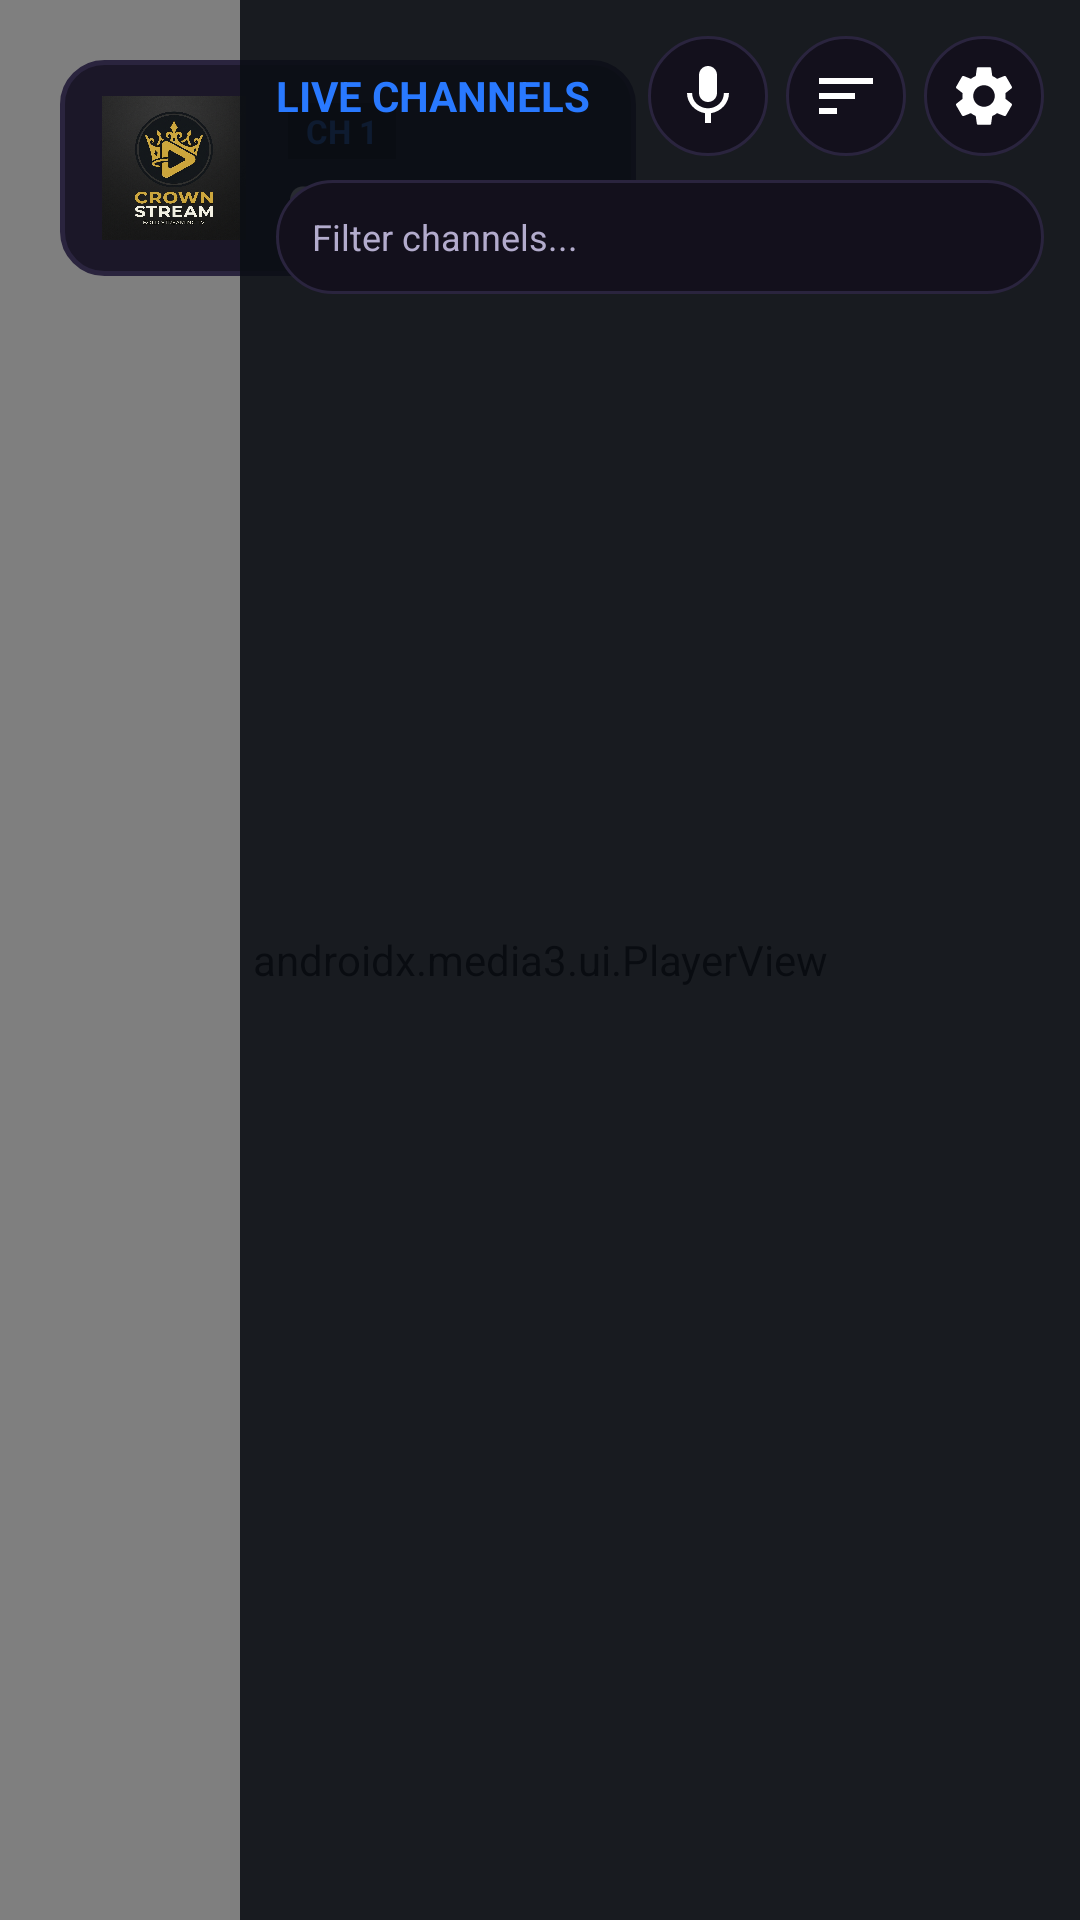

Where to tap for icons on this 1080x1920 app screen, as point (x, y):
Customize Order: point (846, 96)
Player Settings: point (984, 96)
Voice Search: point (708, 96)
